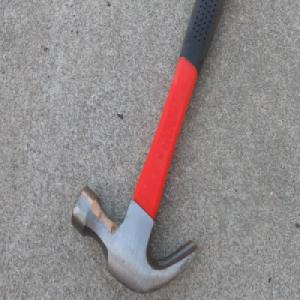Hammer: (70, 0, 231, 294)
